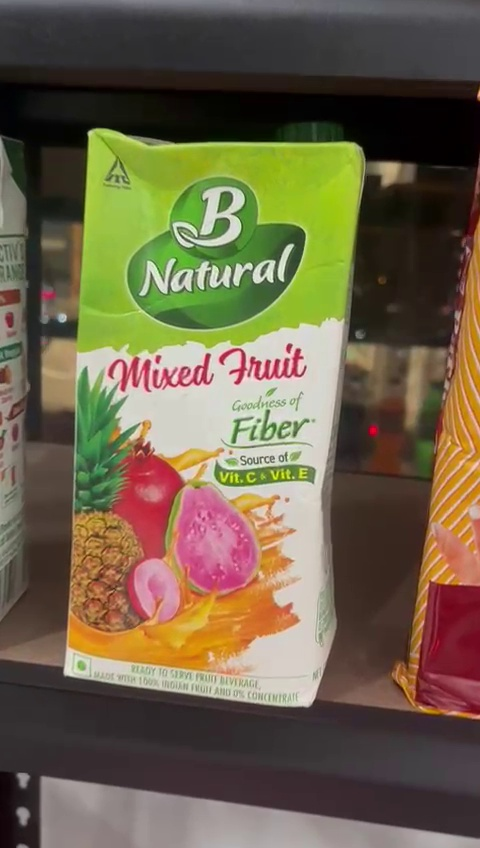Mixed Fruit: (70, 122, 351, 702)
